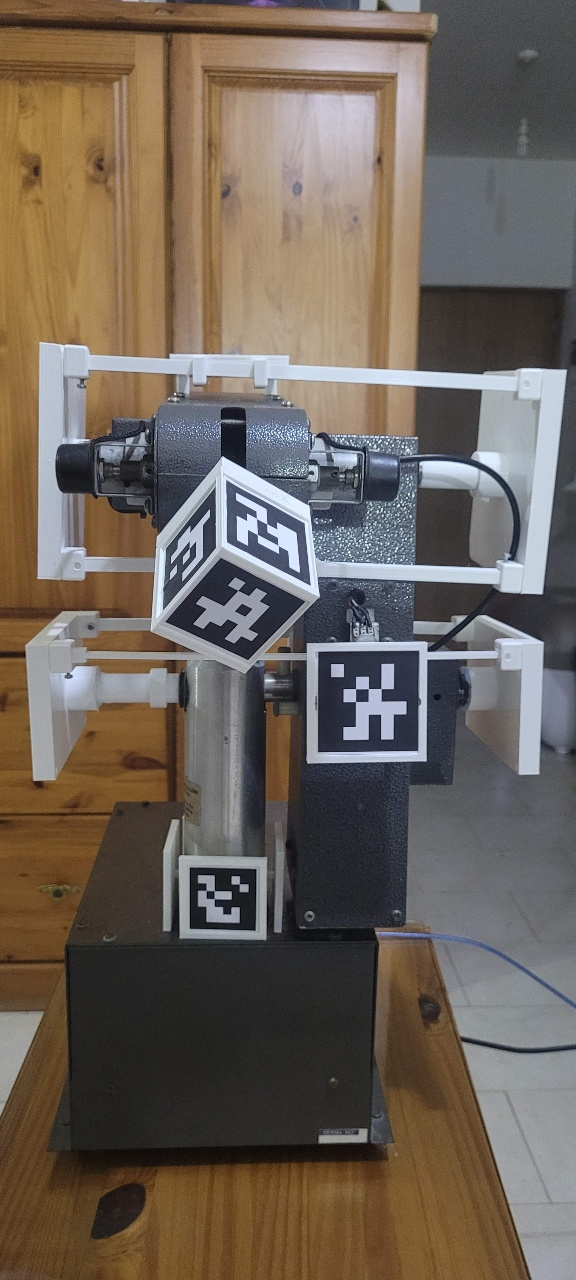Robot: (98, 198, 503, 889)
